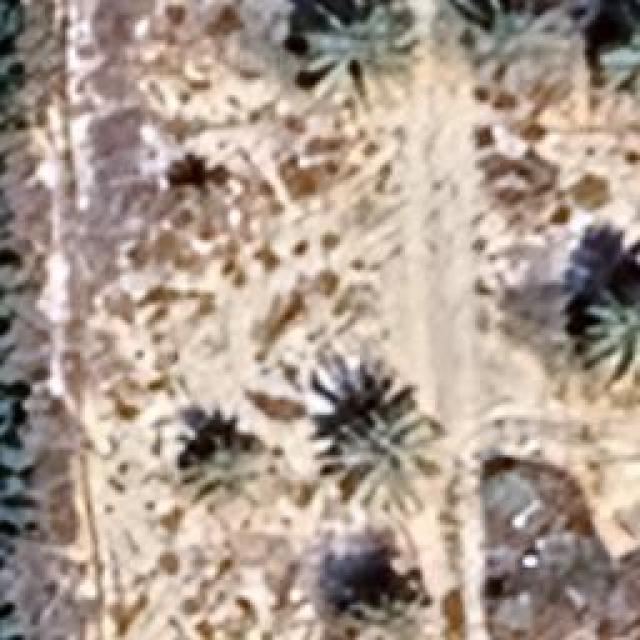PalmTree: (90, 88, 610, 318), (312, 374, 441, 512), (292, 5, 418, 113), (458, 0, 576, 80), (328, 555, 434, 640), (184, 407, 272, 505), (595, 0, 640, 85)
